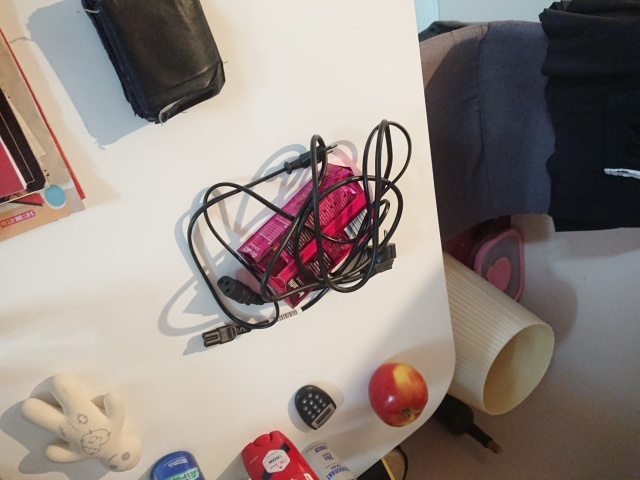Barcaffe Classic Original 225g: (234, 160, 382, 312)
